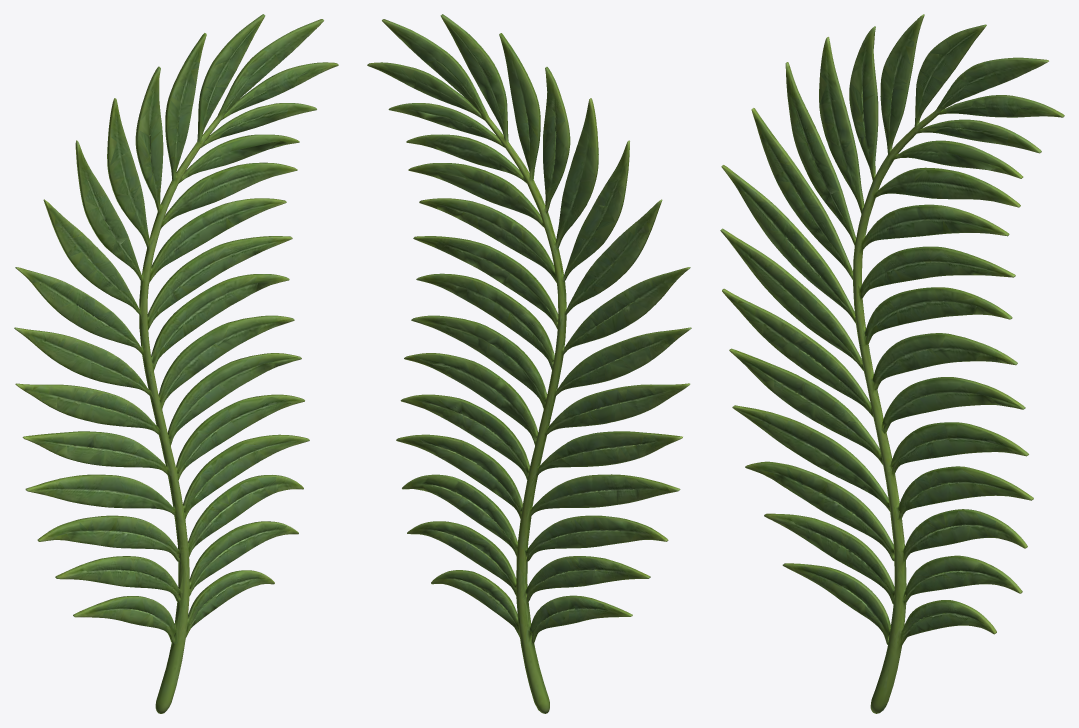
3 renders of one model, left to right at view 1: azimuth 30°, elevation 25°; view 2: azimuth 150°, elevation 25°; view 3: azimuth 330°, elevation 25°, orthographic. The views are drawn at different scales.
Bounding box in the file's own units: 0.9539 × 1.9 × 0.0384.
1 material, 1 textured.
